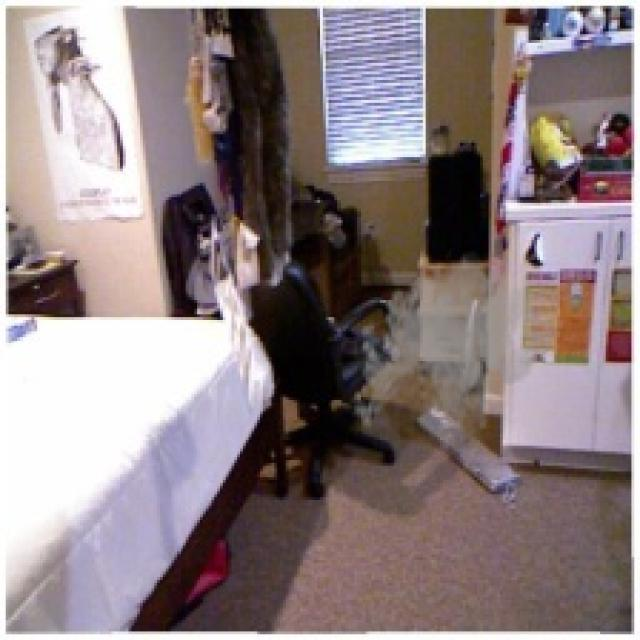Smoke: (348, 249, 554, 457)
